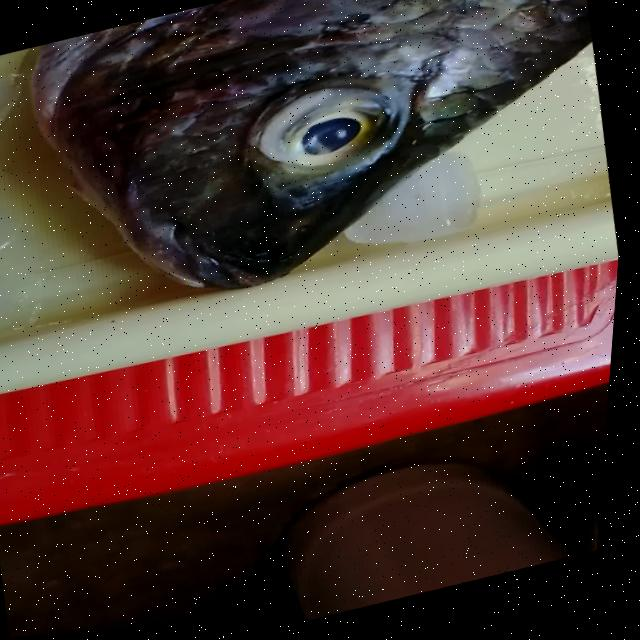Fresh: (187, 48, 494, 222)
